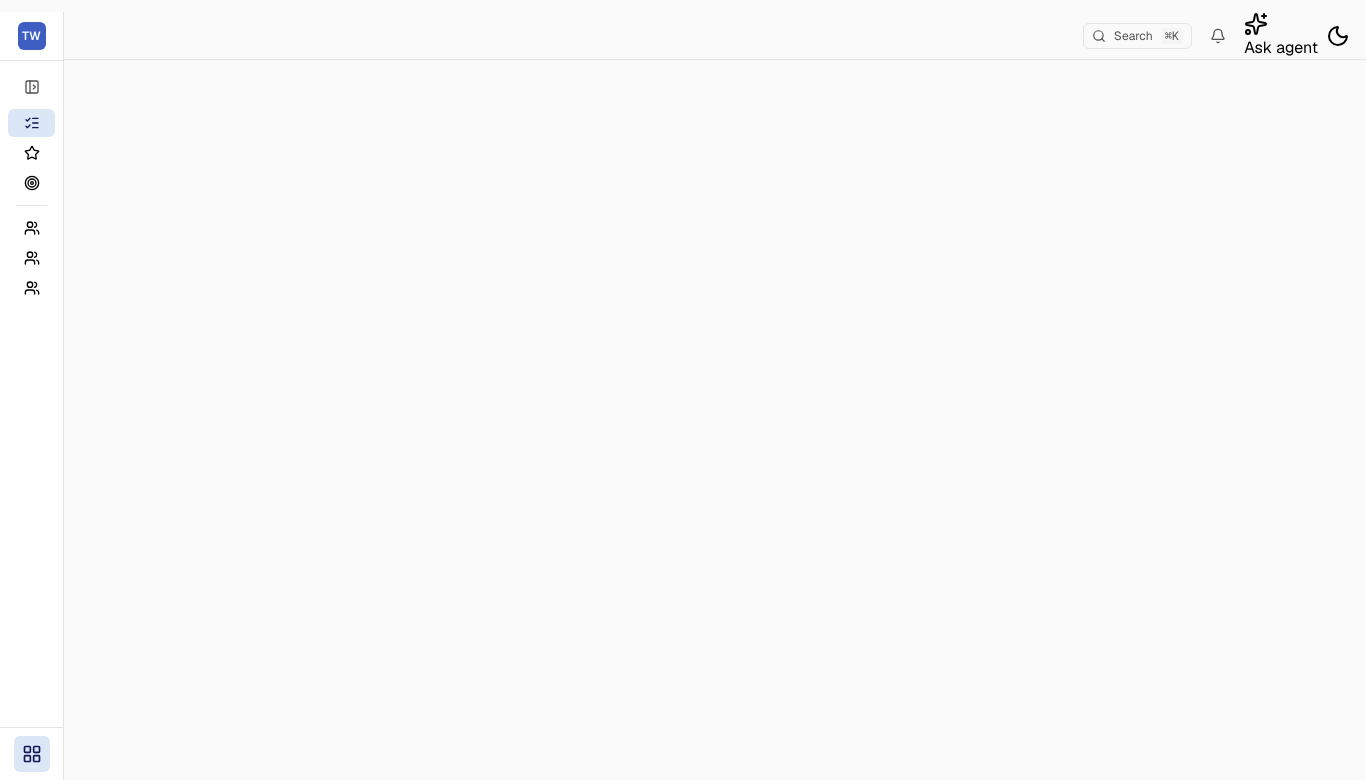
Test: ShellLayout › flies the collapsed rail out when keyboard focus enters it
Check: the text "My items" is not shown
Focus the button named "Expand sidebar": {"x": 32, "y": 87} left=18, top=73, right=46, bottom=101
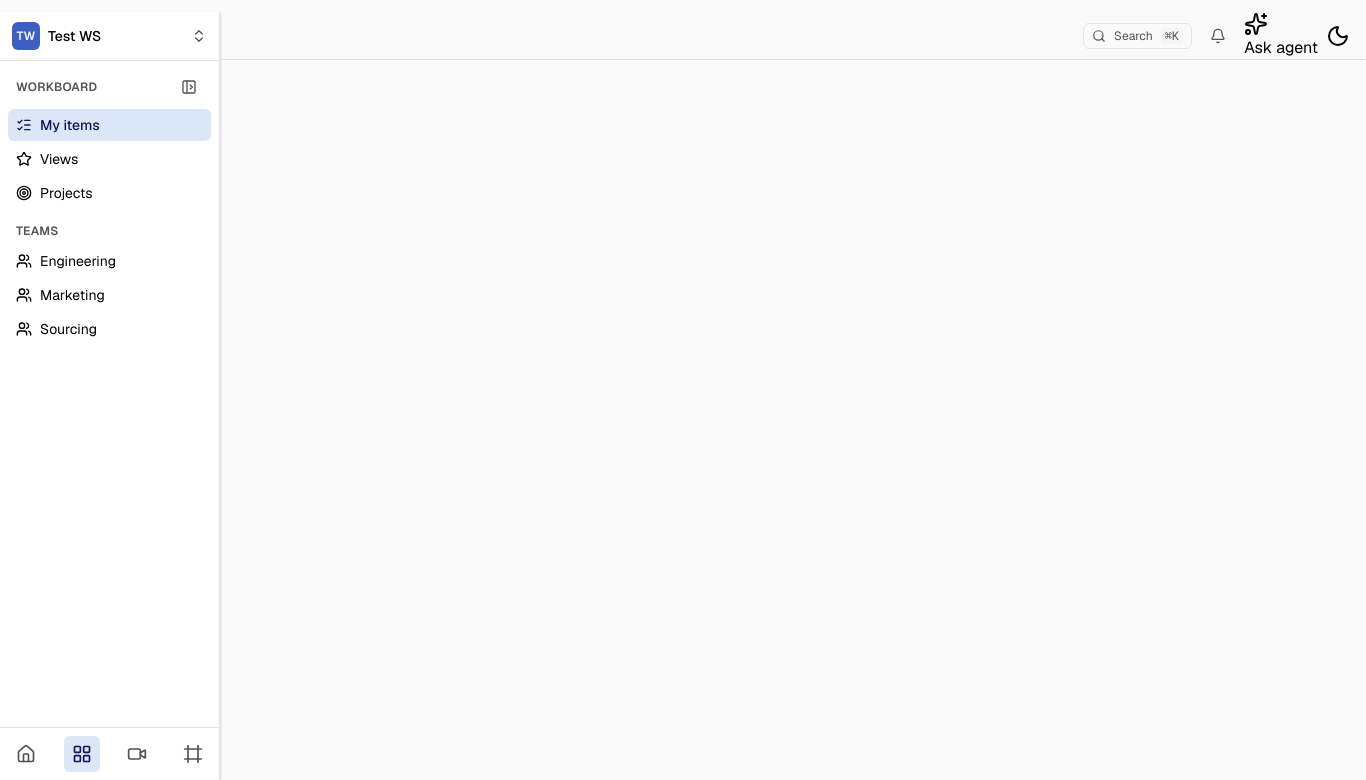
Check: the text "My items" is shown, box left=40, top=115, right=100, bottom=135
